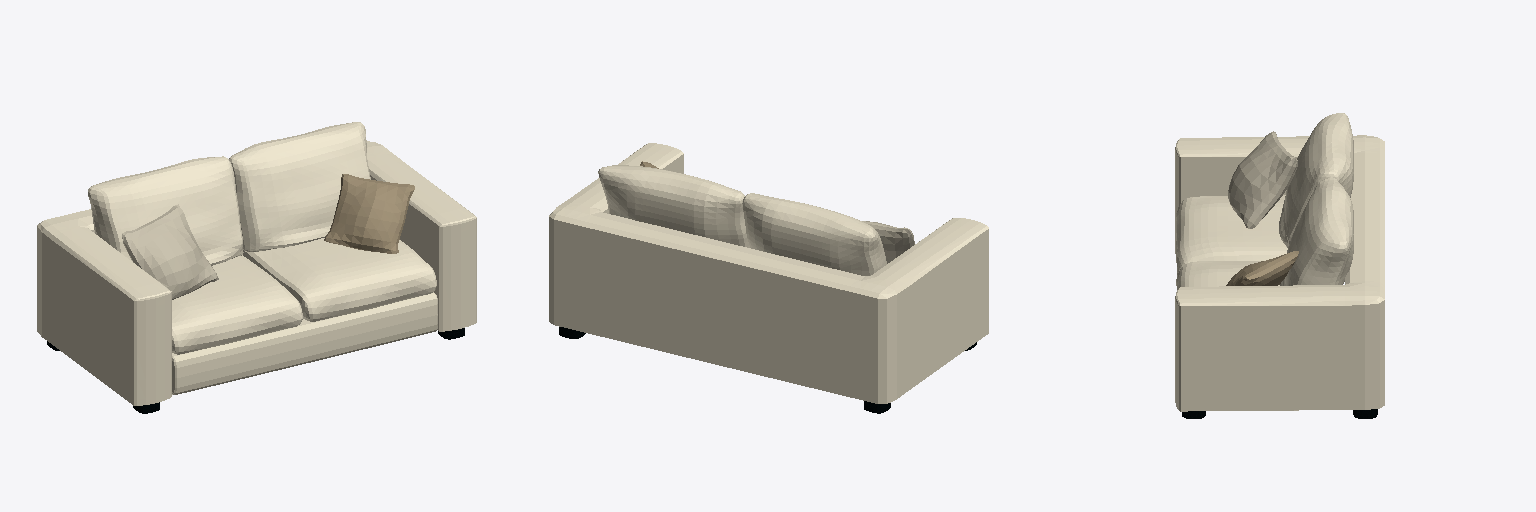
The picture shows the model from 3 angles: view 1: azimuth 30°, elevation 25°; view 2: azimuth 150°, elevation 25°; view 3: azimuth 270°, elevation 25°; orthographic projection.
Parts seen in each view (by area): view 1: back_Plane.005, bigcushion2.002_Cube.024, base_Cube.021, bigcushion2_Cube.022, base_big_cushion2_Cube.001, base_big_cushion_Cube, cushion_dark_Cube.018, cushion_clear_Cube.019; view 2: back_Plane.005, bigcushion2.002_Cube.024, bigcushion2_Cube.022, cushion_clear_Cube.019; view 3: back_Plane.005, base_big_cushion_Cube, bigcushion2.002_Cube.024, bigcushion2_Cube.022, cushion_clear_Cube.019, base_big_cushion2_Cube.001, cushion_dark_Cube.018.
Part boxes in pixels (x1,y1,x2,y2): back_Plane.005: (37,141,476,405); bigcushion2.002_Cube.024: (229,122,370,251); base_Cube.021: (172,292,437,394); bigcushion2_Cube.022: (88,156,243,265); base_big_cushion2_Cube.001: (243,238,436,321); base_big_cushion_Cube: (172,255,302,354); cushion_dark_Cube.018: (324,174,414,253); cushion_clear_Cube.019: (122,204,218,299); back_Plane.005: (549,143,988,403); bigcushion2.002_Cube.024: (598,165,749,247); bigcushion2_Cube.022: (742,193,886,275); cushion_clear_Cube.019: (862,221,914,263); back_Plane.005: (1175,135,1384,411); base_big_cushion_Cube: (1176,195,1287,274); bigcushion2.002_Cube.024: (1280,177,1353,285); bigcushion2_Cube.022: (1279,113,1353,247); cushion_clear_Cube.019: (1228,131,1297,228); base_big_cushion2_Cube.001: (1176,261,1279,289); cushion_dark_Cube.018: (1226,251,1298,285).
Bounding box in the file's own units: 170 × 79.72 × 89.96.
4 materials, 1 textured.